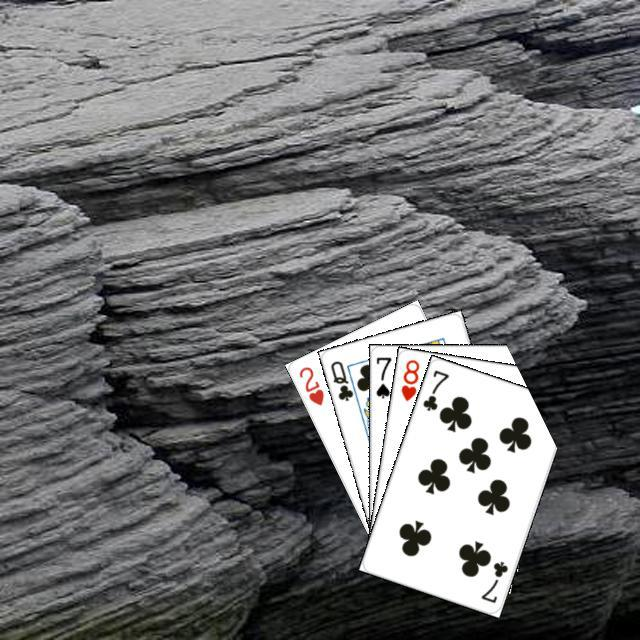2h: (294, 362, 326, 407)
7c: (476, 556, 509, 605), (418, 365, 451, 413)
7s: (371, 352, 393, 400)
8h: (396, 354, 421, 403)
Qc: (325, 356, 360, 404)
